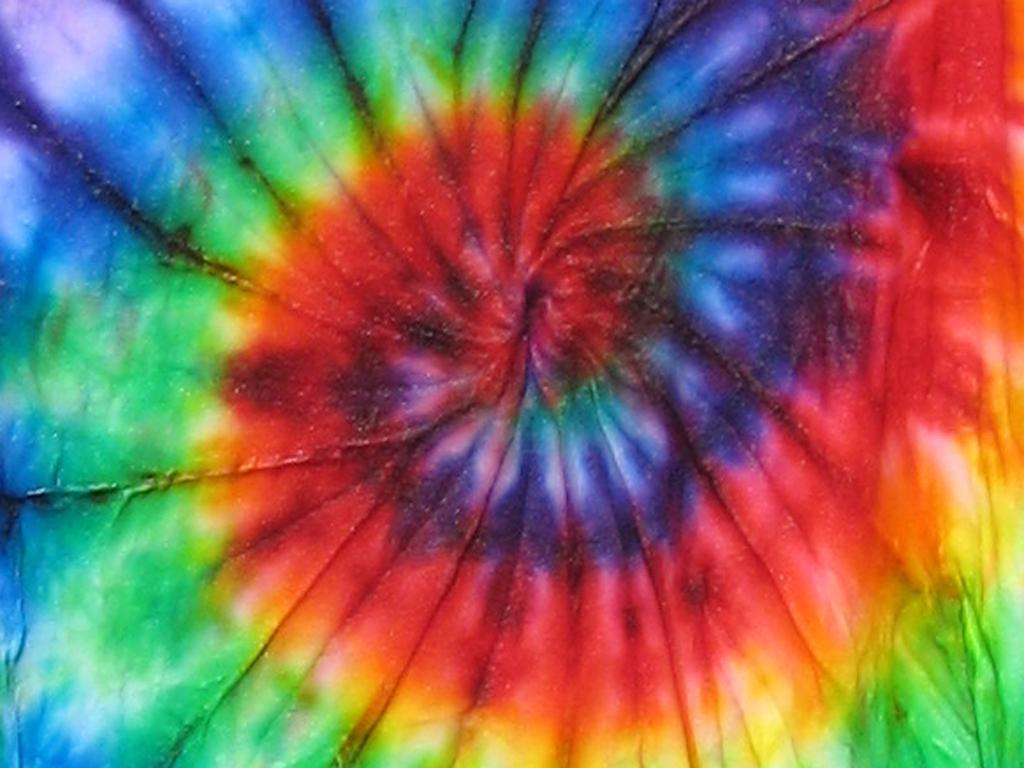face: (528, 223, 648, 369)
